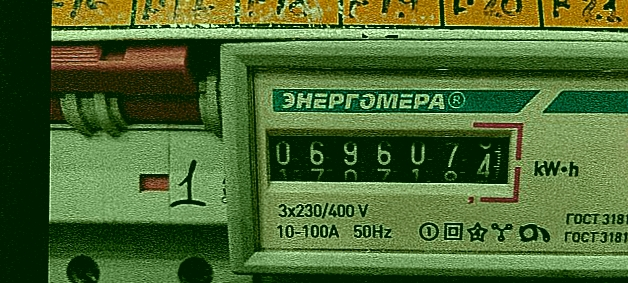0: (272, 139, 293, 167), (409, 138, 427, 167), (308, 139, 325, 165)
4: (474, 151, 492, 180)
6: (374, 137, 392, 167)
7: (442, 139, 460, 168)
9: (341, 139, 359, 167)
screen: (250, 116, 525, 203)
